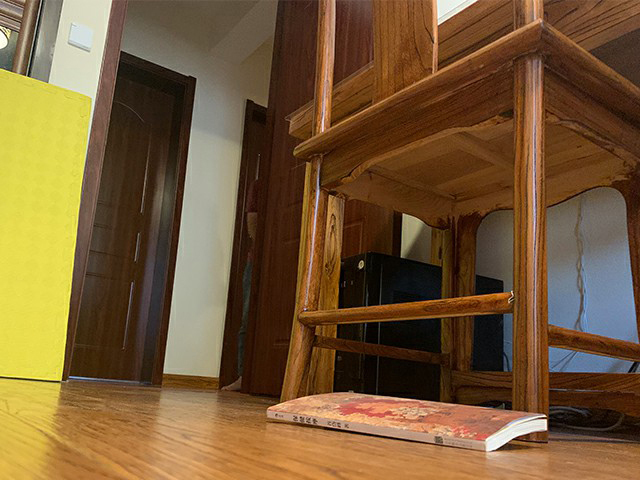book: (265, 388, 551, 451)
stool: (277, 1, 640, 444)
wire: (548, 403, 627, 435)
